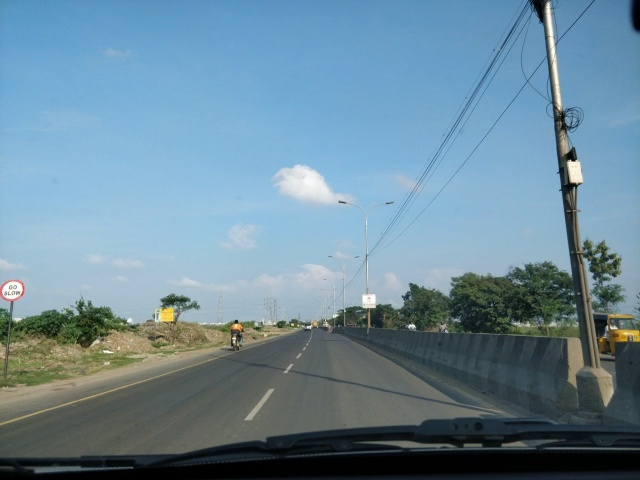auto: (592, 313, 639, 353)
car: (305, 321, 317, 331)
motorbike: (225, 321, 253, 357), (435, 313, 453, 347), (403, 317, 420, 343)
